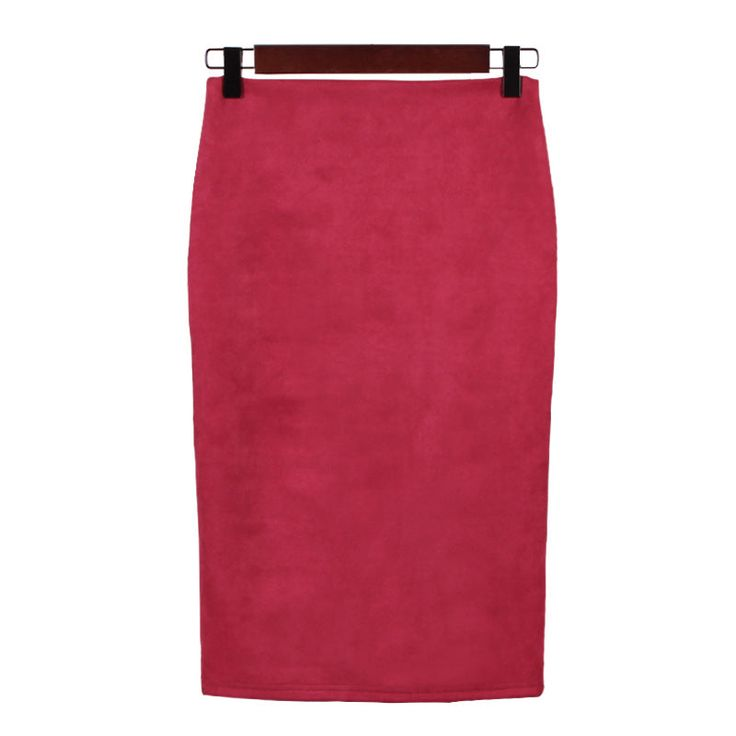gamuza: (188, 76, 557, 701)
